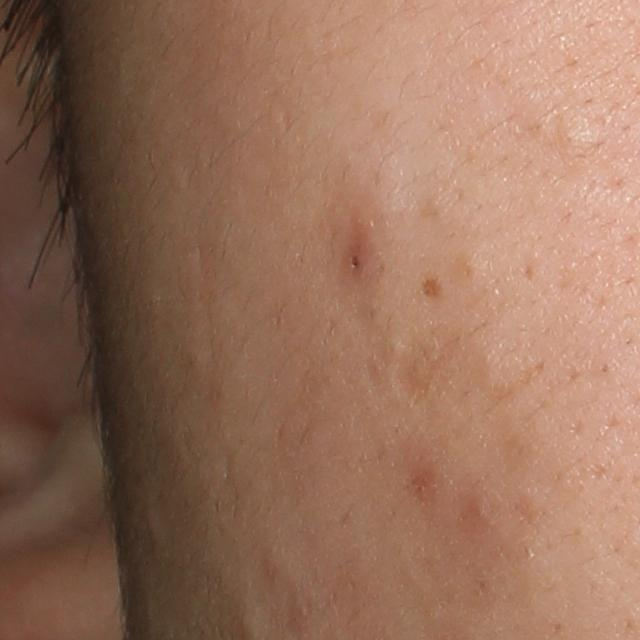comedo: (554, 110, 602, 160)
nevus: (416, 275, 442, 303)
